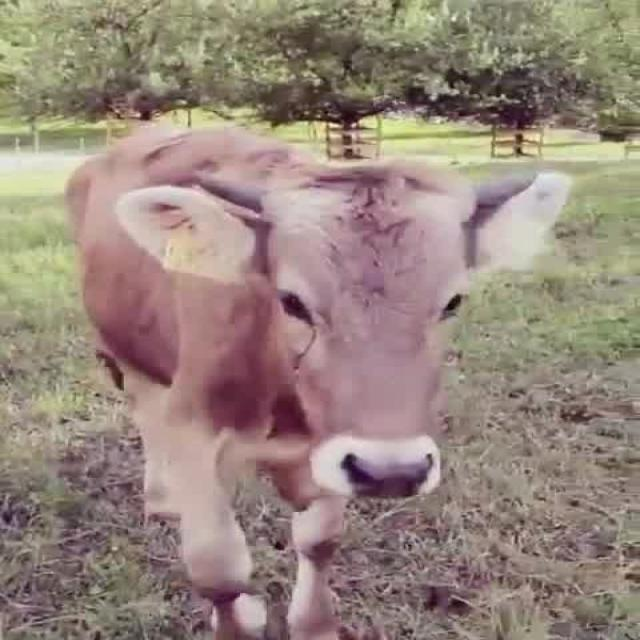cowFace: (111, 157, 578, 512)
